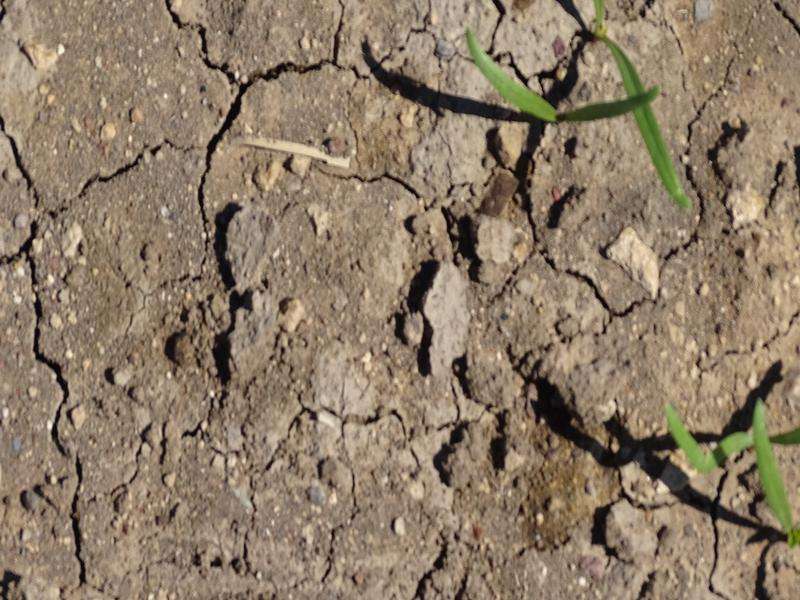Espinaca: (466, 30, 695, 211), (652, 391, 800, 544)
